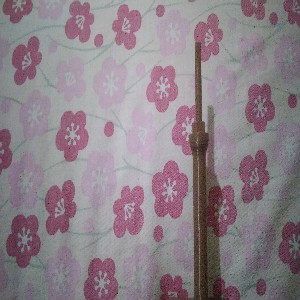obeng: (188, 41, 210, 300)
